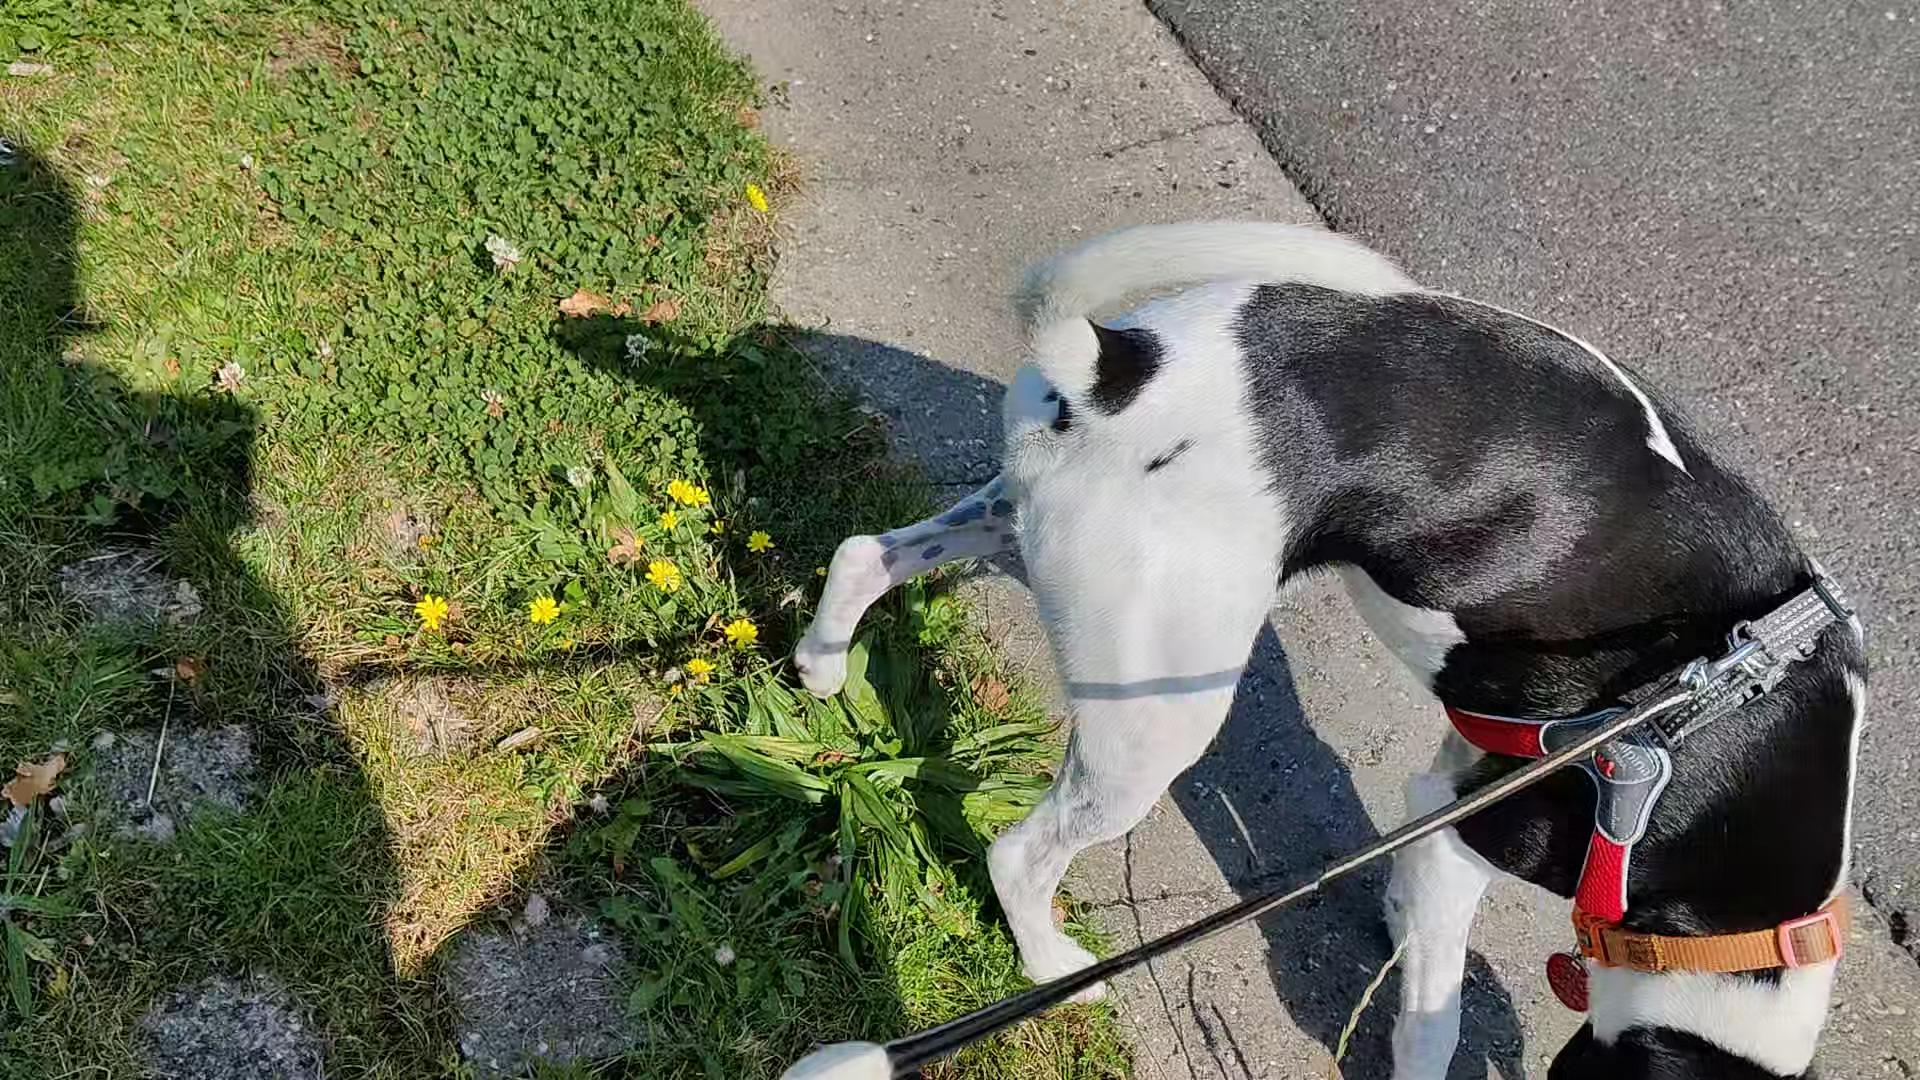Dog: (793, 191, 1888, 1079)
